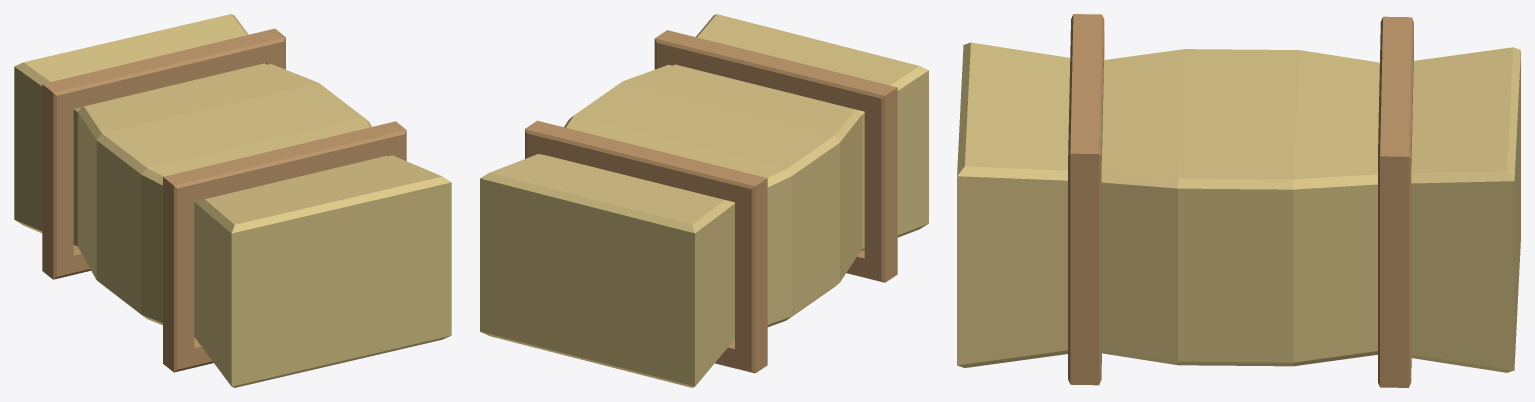
The model's file is Hay.fbx.
3 views of the same model, side by side, from view 1: azimuth 30°, elevation 25°; view 2: azimuth 150°, elevation 25°; view 3: azimuth 270°, elevation 25° (orthographic). The views are drawn at different scales.
Visible parts, largest first — view 1: Box003; view 2: Box003; view 3: Box003.
Boxes of the visible parts, bbox=[...] form: Box003: bbox=[14, 14, 451, 387]; Box003: bbox=[480, 14, 928, 387]; Box003: bbox=[957, 14, 1520, 387].
Size of the model in its own units: 35.68 by 26.62 by 58.86.
